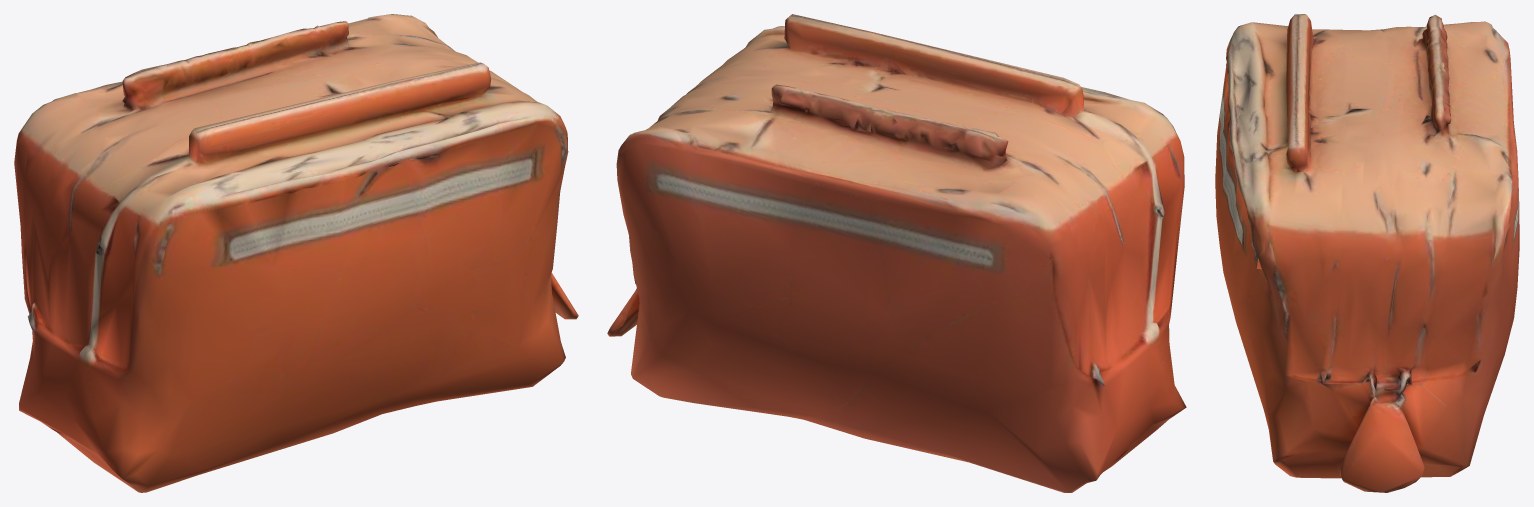
The model's file is passport-pouch.glb.
3 views of the same model, side by side, from view 1: azimuth 30°, elevation 25°; view 2: azimuth 150°, elevation 25°; view 3: azimuth 270°, elevation 25° (orthographic). The views are drawn at different scales.
Size of the model in its own units: 2 by 1.28 by 1.1.
Materials: 1 (1 with a texture image).
